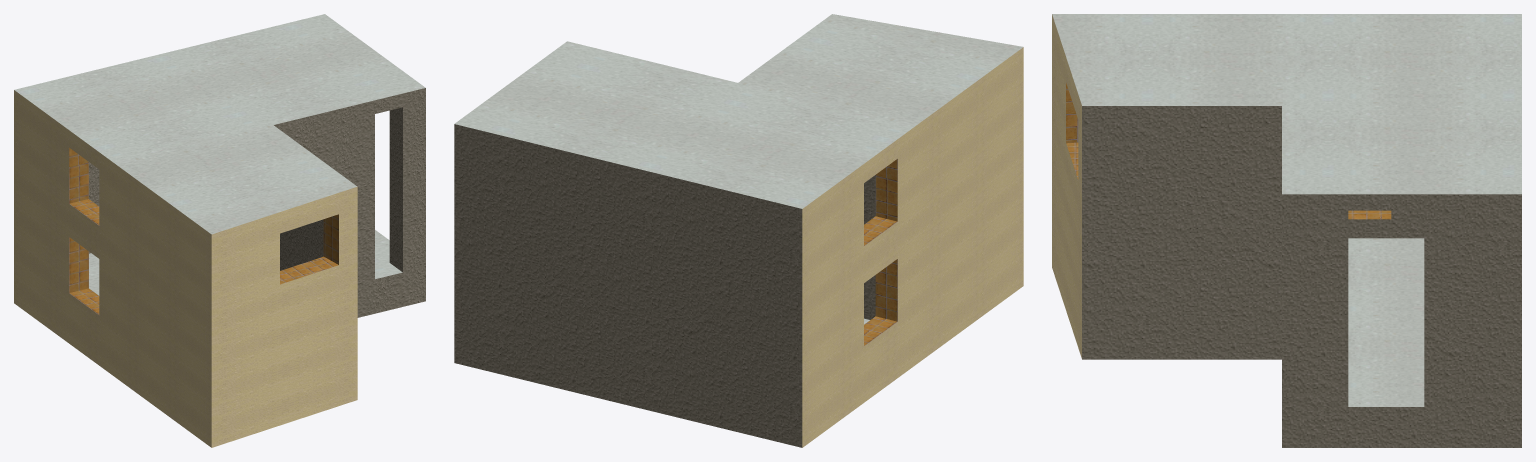
The model's file is cuisine_rdc.obj.
3 renders of one model, left to right at view 1: azimuth 30°, elevation 25°; view 2: azimuth 150°, elevation 25°; view 3: azimuth 270°, elevation 25°, orthographic. The views are drawn at different scales.
Visible parts, largest first — view 1: Cuisine1_RDC_Cube.004; view 2: Cuisine1_RDC_Cube.004; view 3: Cuisine1_RDC_Cube.004.
Boxes of the visible parts, box(x1,y1,x2,y2) form: Cuisine1_RDC_Cube.004: box(14, 14, 425, 447); Cuisine1_RDC_Cube.004: box(454, 14, 1023, 447); Cuisine1_RDC_Cube.004: box(1052, 14, 1521, 447).
Size of the model in its own units: 4.73 by 3.1 by 5.2.
